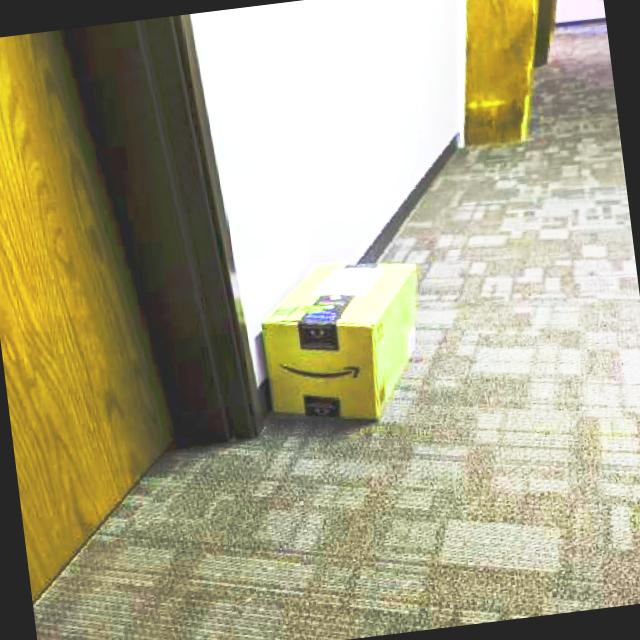Box: (244, 245, 448, 435)
